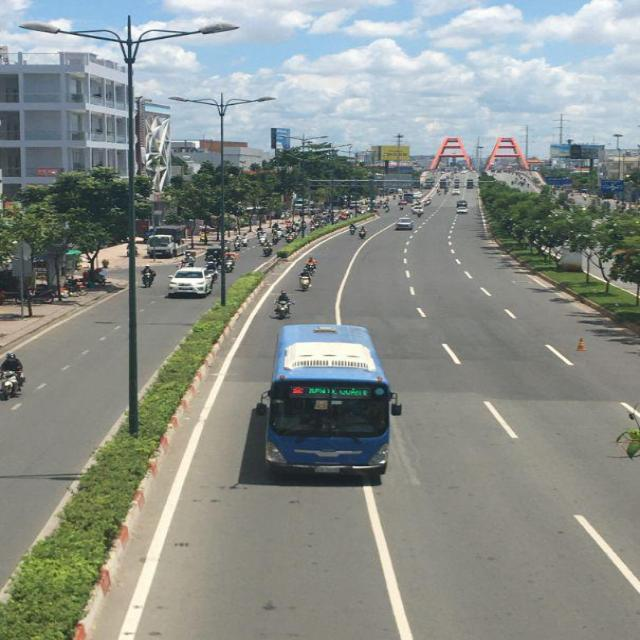bus: (264, 324, 394, 478)
car: (169, 267, 215, 300), (394, 220, 415, 232), (454, 201, 467, 212), (412, 205, 424, 215)
motorcycle: (140, 267, 154, 288)
